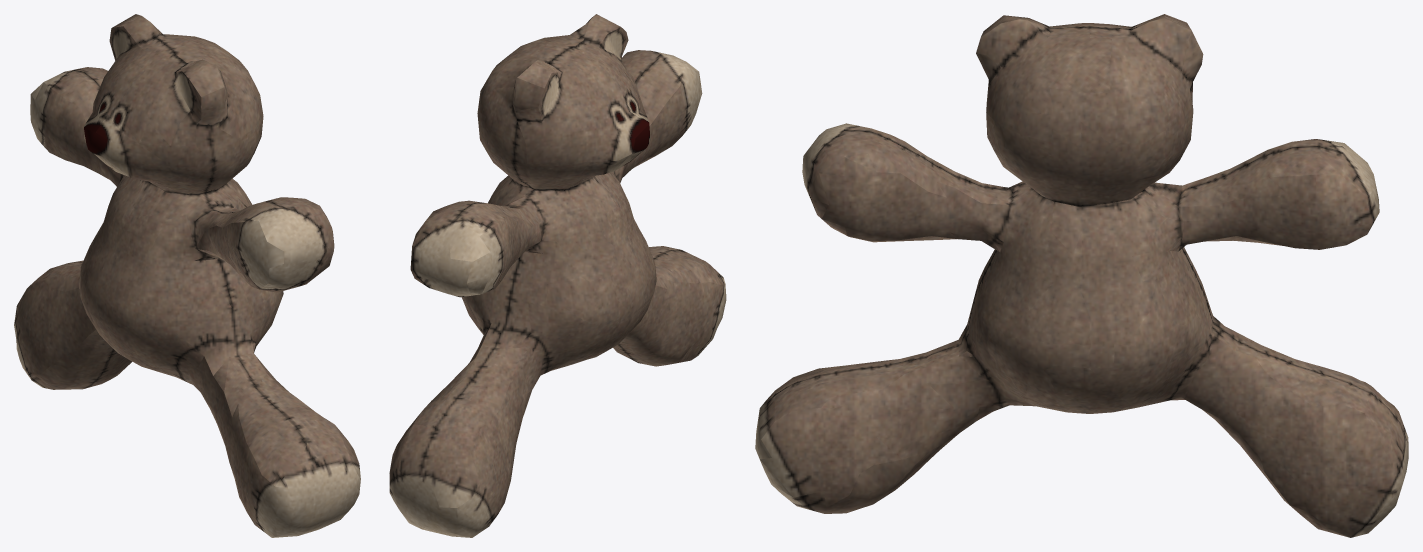
File: teddy2.glb
3 views of the same model, side by side, from view 1: azimuth 30°, elevation 25°; view 2: azimuth 150°, elevation 25°; view 3: azimuth 270°, elevation 25° (orthographic). The views are drawn at different scales.
Parts seen in each view (by area): view 1: mesh; view 2: mesh; view 3: mesh.
Boxes of the visible parts, left/top/right/bottom form: mesh: left=14, top=14, right=360, bottom=537; mesh: left=389, top=14, right=726, bottom=537; mesh: left=755, top=14, right=1408, bottom=537.
Bounding box in the file's own units: 0.1095 × 0.25 × 0.2956.
Materials: 1 (1 with a texture image).
